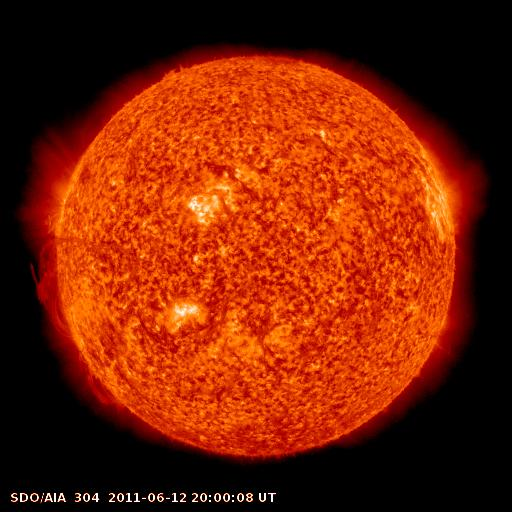prominence: (20, 235, 131, 414), (158, 59, 205, 85)
